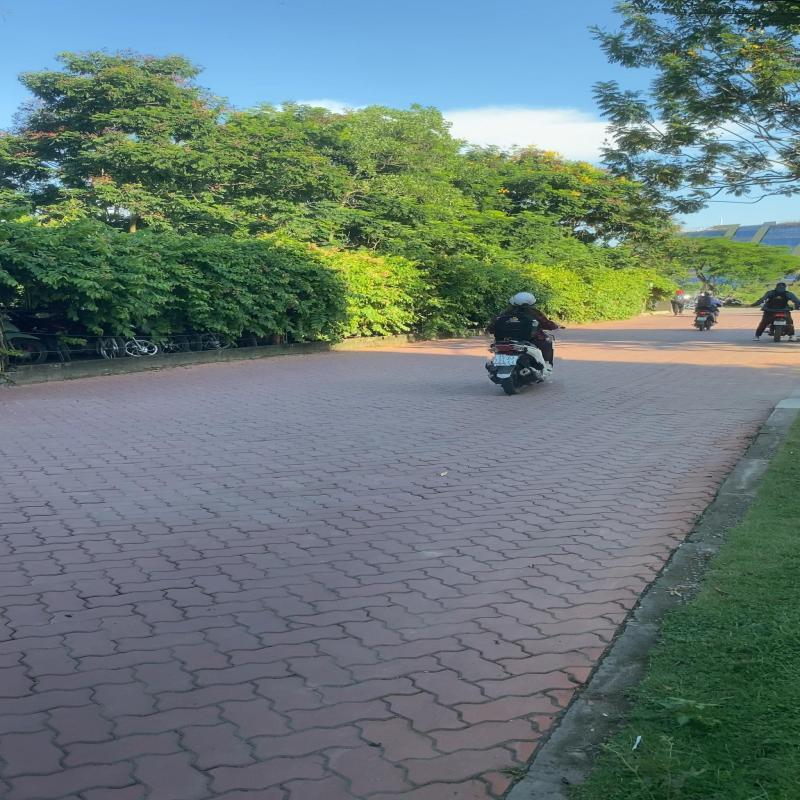helmet: (513, 292, 536, 306)
licenseplate: (491, 353, 520, 364)
motorcyclist: (484, 290, 563, 395)
